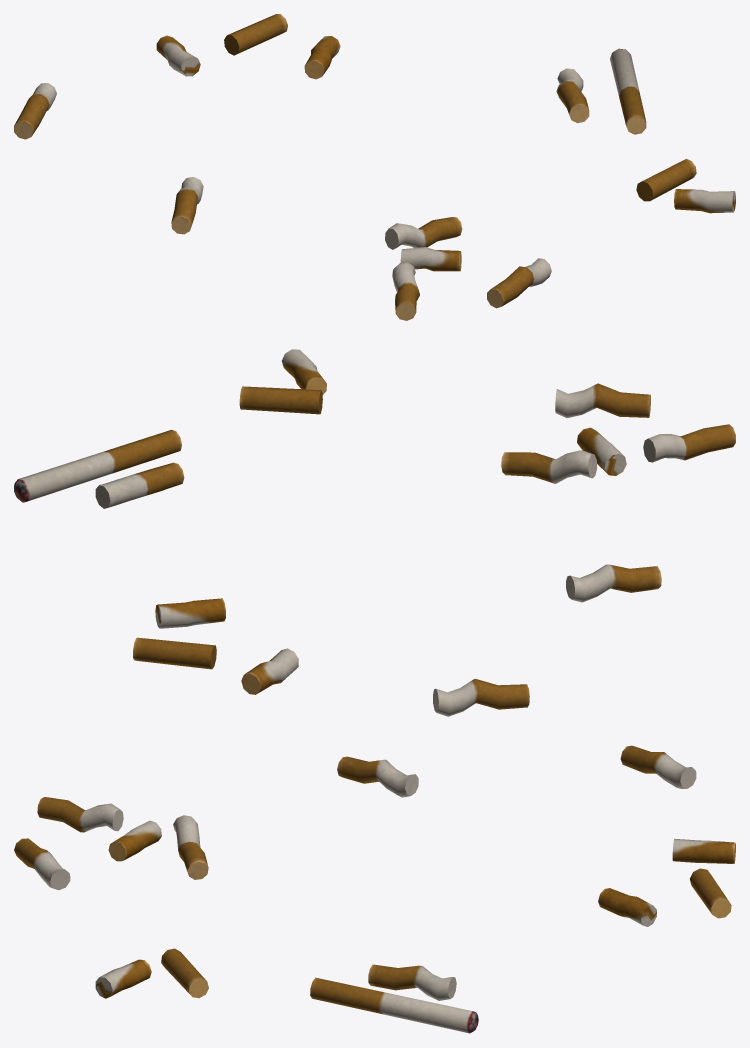
Rendered from Prop_Ashtray_x4.fbx.
3 views of the same model, one above another, from view 1: azimuth 30°, elevation 25°; view 2: azimuth 150°, elevation 25°; view 3: azimuth 270°, elevation 25° (orthographic). The views are drawn at different scales.
Parts seen in each view (by area): view 1: Prop_Ashtray_x4; view 2: Prop_Ashtray_x4; view 3: Prop_Ashtray_x4.
Part boxes in pixels (<box>): Prop_Ashtray_x4: <box>14,14,735,320</box>; Prop_Ashtray_x4: <box>14,349,735,716</box>; Prop_Ashtray_x4: <box>14,745,735,1033</box>.
Bounding box in the file's own units: 11.66 × 0.7117 × 13.05.
